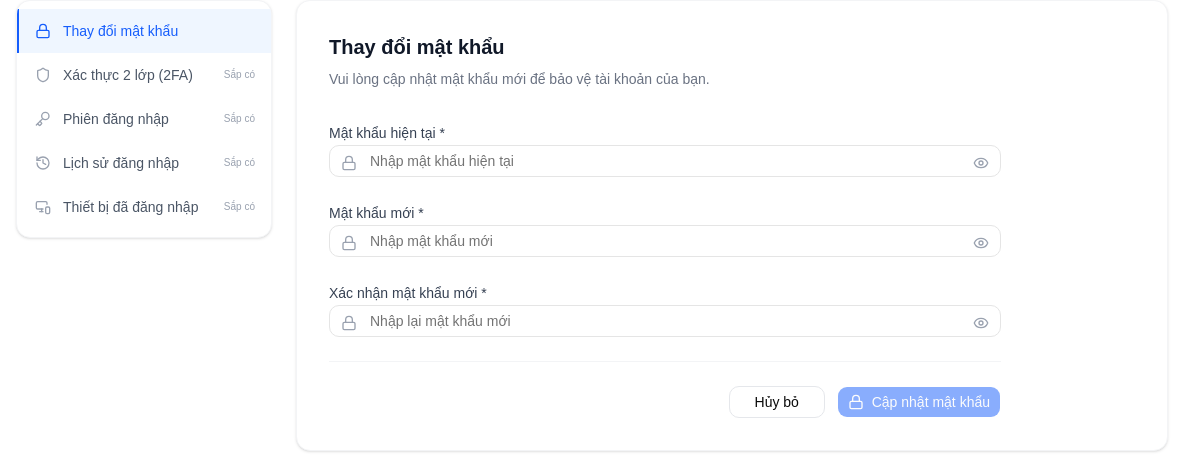
AccountSecurityPage › shows sessions as unavailable rather than faking it
The image size is (1185, 469).
Click the button "Phiên đăng nhập Sắp có": (144, 119) [17, 97, 271, 141]
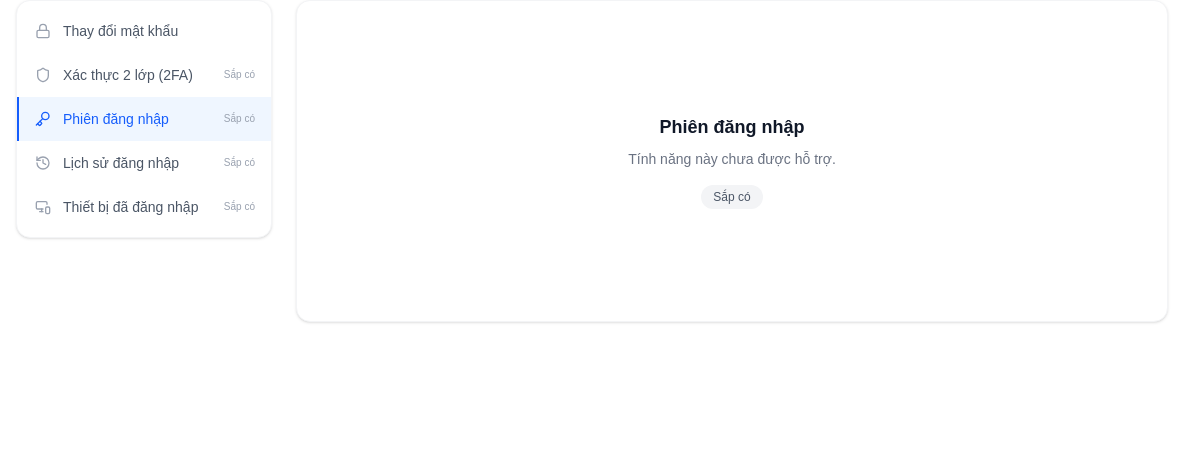
Expected: the text "Tính năng này chưa được hỗ trợ." is shown, [628, 149, 836, 169]
